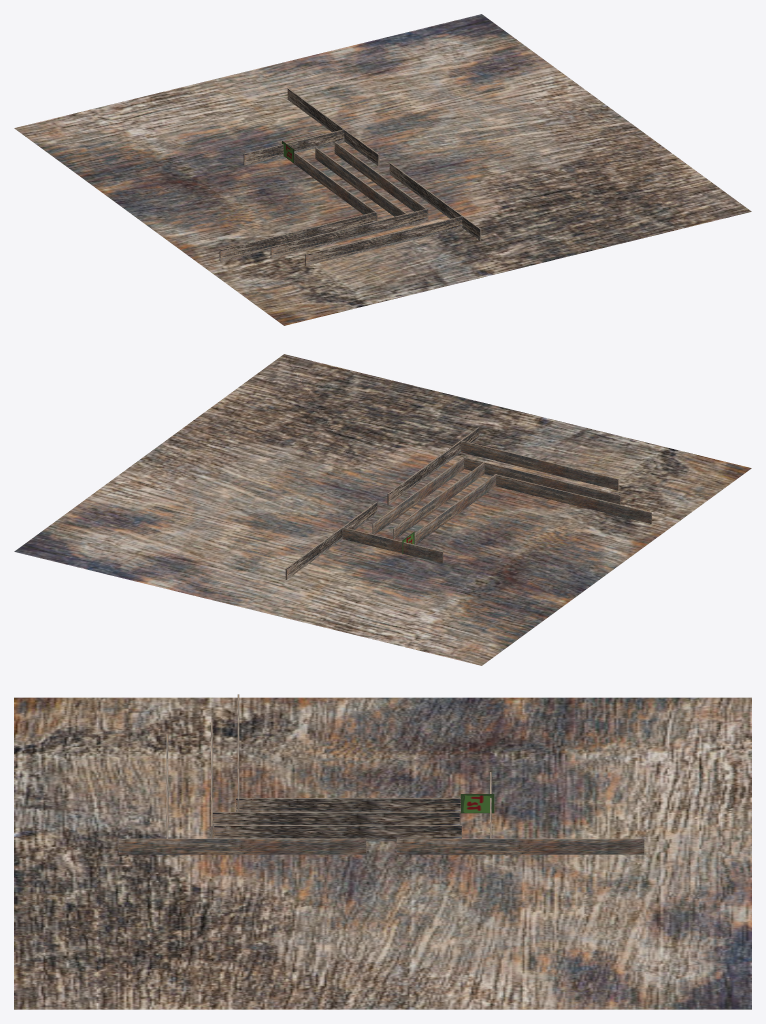
3 views of the same model, one above another, from view 1: azimuth 30°, elevation 25°; view 2: azimuth 150°, elevation 25°; view 3: azimuth 270°, elevation 25° (orthographic). The views are drawn at different scales.
Parts seen in each view (by area): view 1: Plane, Cube.004, Cube.003, Cube.005, Cube.009, Cube.002, Cube.001, Cube.008, Cube.007, Cube.006; view 2: Plane, Cube.003, Cube.005, Cube.004, Cube.009, Cube.007, Cube.008, Cube.001, Cube.002, Cube.006; view 3: Plane, Cube.001, Cube.002, Cube.008, Cube.007, Cube.006, Trigger.001.
Boxes of the visible parts, bbox=[...] form: Plane: bbox=[14, 14, 751, 325]; Cube.004: bbox=[270, 208, 428, 258]; Cube.003: bbox=[305, 216, 462, 265]; Cube.005: bbox=[219, 211, 376, 261]; Cube.009: bbox=[243, 129, 344, 165]; Cube.002: bbox=[389, 163, 481, 240]; Cube.001: bbox=[287, 88, 379, 165]; Cube.008: bbox=[334, 142, 426, 211]; Cube.007: bbox=[315, 147, 406, 216]; Cube.006: bbox=[294, 152, 377, 220]; Plane: bbox=[14, 354, 751, 665]; Cube.003: bbox=[461, 440, 618, 490]; Cube.005: bbox=[494, 474, 651, 523]; Cube.004: bbox=[463, 457, 620, 504]; Cube.009: bbox=[342, 527, 443, 563]; Cube.007: bbox=[393, 462, 484, 539]; Cube.008: bbox=[372, 458, 463, 534]; Cube.001: bbox=[285, 502, 377, 579]; Cube.002: bbox=[387, 427, 479, 505]; Cube.006: bbox=[414, 474, 497, 544]; Plane: bbox=[14, 697, 751, 1009]; Cube.001: bbox=[396, 838, 644, 854]; Cube.002: bbox=[118, 838, 366, 854]; Cube.008: bbox=[214, 825, 461, 841]; Cube.007: bbox=[212, 812, 460, 827]; Cube.006: bbox=[236, 798, 460, 813]; Trigger.001: bbox=[460, 794, 494, 813].
Bounding box in the file's own units: 615 × 18.33 × 615.
Materials: 11 (11 with a texture image).
